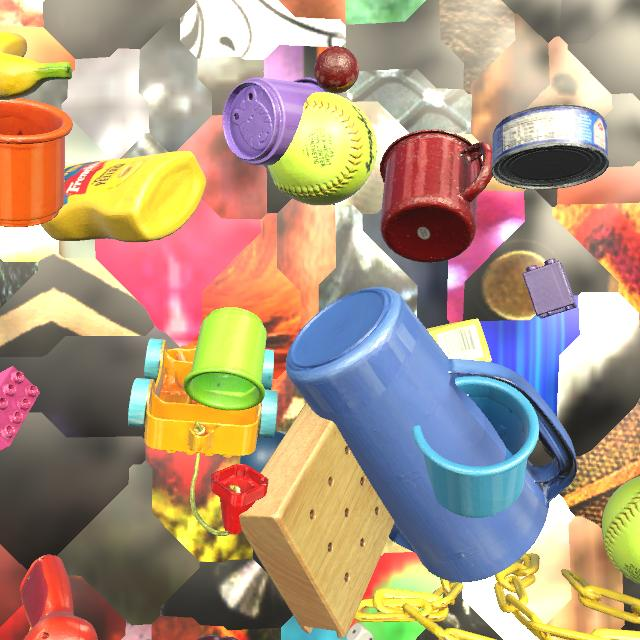ycb_004_sugar_box: (427, 319, 492, 362)
ycb_006_mustard_bottle: (40, 151, 206, 242)
ycb_007_tuna_fish_can: (491, 104, 609, 190)
ycb_011_banana: (0, 32, 72, 100)
ycb_018_plum: (197, 635, 238, 640)
